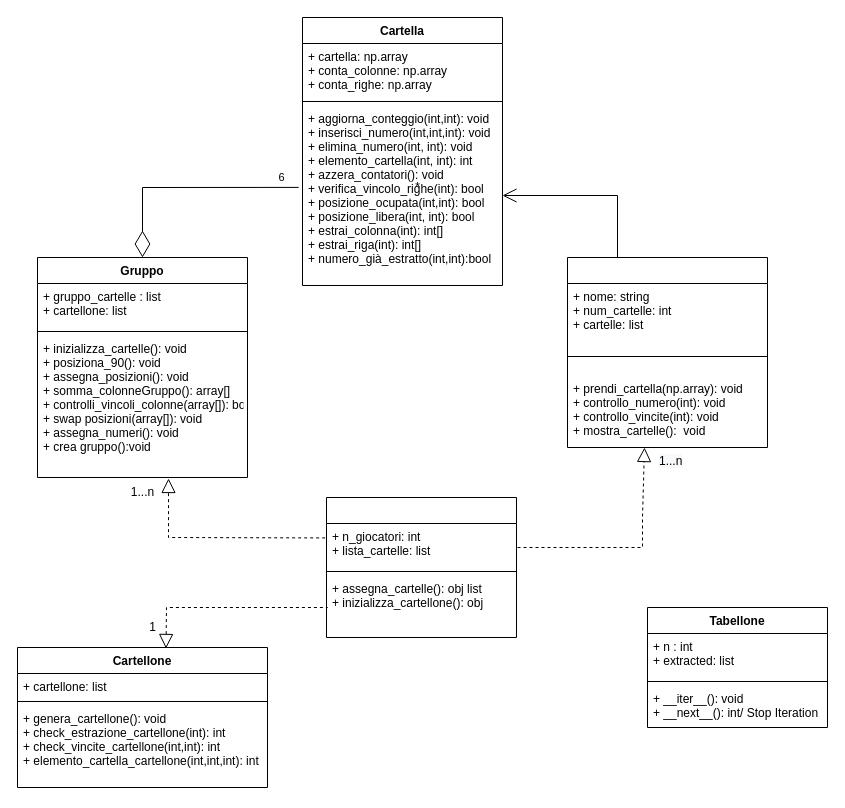
Image size: 845x808. Some labels were removed from this diagram. Each missing label, with the box of its shape:
Banco: (326, 496, 516, 638)
Giocatore: (566, 256, 768, 448)
